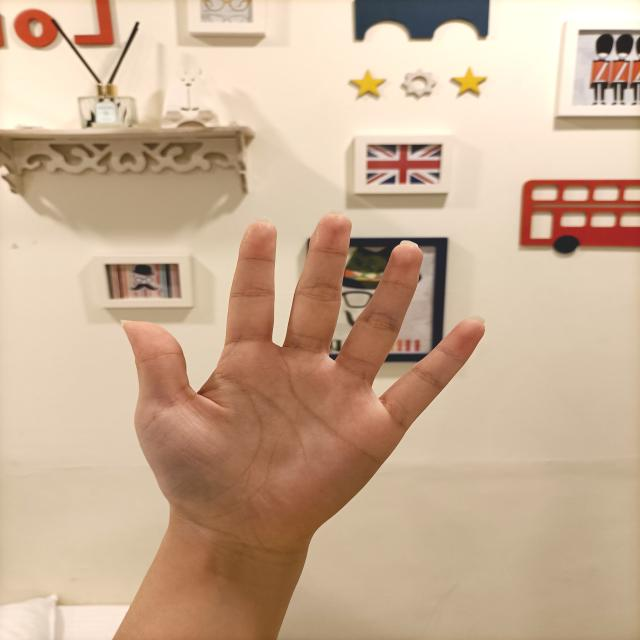no_glove: (105, 202, 502, 543)
